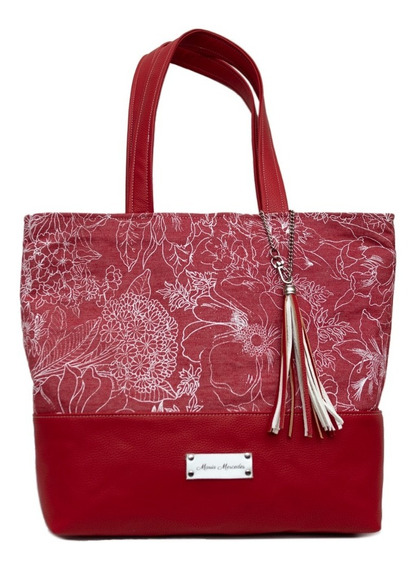cartera: (18, 29, 400, 542)
